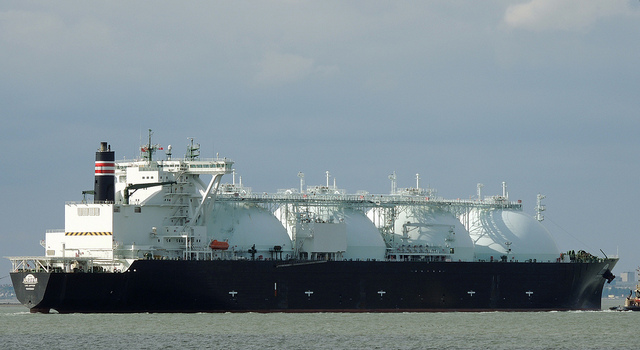LNG_ship: (13, 131, 614, 316)
